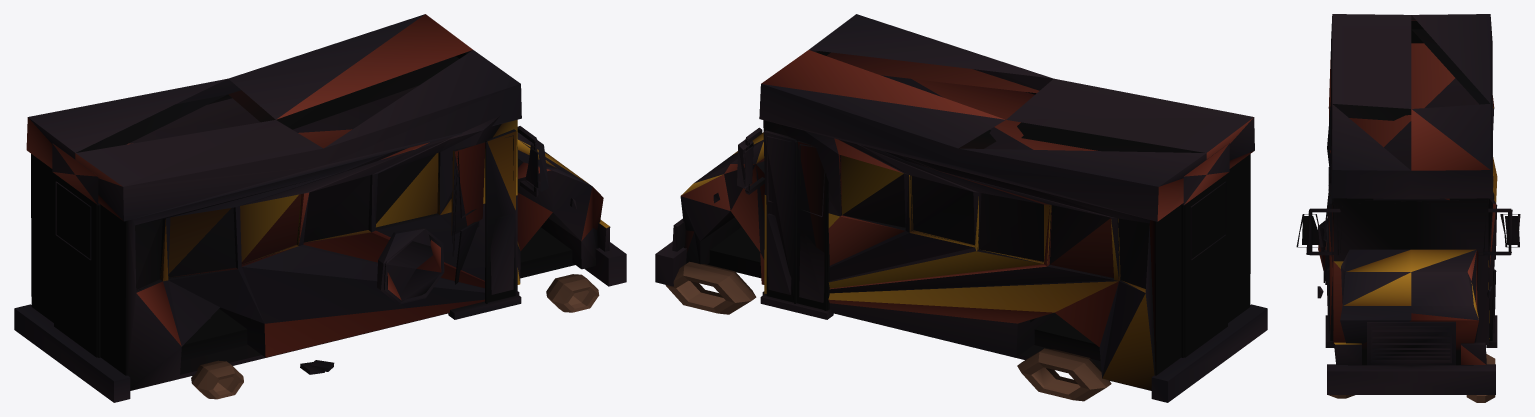
Rendered from model.burned.lod2.glb.
3 views of the same model, side by side, from view 1: azimuth 30°, elevation 25°; view 2: azimuth 150°, elevation 25°; view 3: azimuth 270°, elevation 25° (orthographic). The views are drawn at different scales.
Visible parts, largest first — view 1: body_pal_uiDark, body_pal_brick, body_pal_schoolBusYellow, wheelFR_pal_sidewalk, wheelRR_pal_sidewalk; view 2: body_pal_uiDark, body_pal_brick, body_pal_schoolBusYellow, wheelRL_pal_sidewalk, wheelFL_pal_sidewalk; view 3: body_pal_uiDark, body_pal_brick, body_pal_schoolBusYellow, wheelFL_pal_sidewalk.
Boxes of the visible parts, x1=… form: body_pal_uiDark: x1=14, y1=14, x2=626, y2=402; body_pal_brick: x1=26, y1=14, x2=603, y2=357; body_pal_schoolBusYellow: x1=160, y1=119, x2=609, y2=284; wheelFR_pal_sidewalk: x1=546, y1=274, x2=599, y2=312; wheelRR_pal_sidewalk: x1=191, y1=360, x2=243, y2=399; body_pal_uiDark: x1=655, y1=14, x2=1267, y2=402; body_pal_brick: x1=681, y1=50, x2=1253, y2=375; body_pal_schoolBusYellow: x1=681, y1=132, x2=1154, y2=390; wheelRL_pal_sidewalk: x1=1017, y1=348, x2=1111, y2=401; wheelFL_pal_sidewalk: x1=665, y1=261, x2=756, y2=314; body_pal_uiDark: x1=1296, y1=14, x2=1520, y2=394; body_pal_brick: x1=1318, y1=20, x2=1496, y2=364; body_pal_schoolBusYellow: x1=1330, y1=107, x2=1497, y2=358; wheelFL_pal_sidewalk: x1=1466, y1=354, x2=1495, y2=402.
Size of the model in its own units: 8.17 by 3.69 by 3.73.
